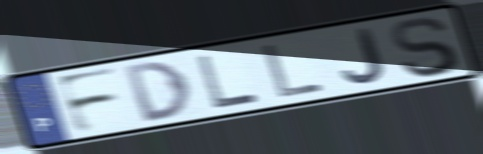D: (121, 58, 194, 125)
F: (52, 64, 123, 136)
J: (340, 26, 389, 86)
L: (193, 53, 262, 111), (259, 42, 328, 100)
S: (387, 15, 462, 80)
